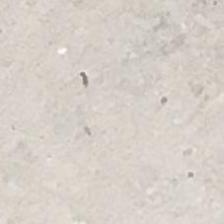Non_Crack: (17, 17, 204, 181)
